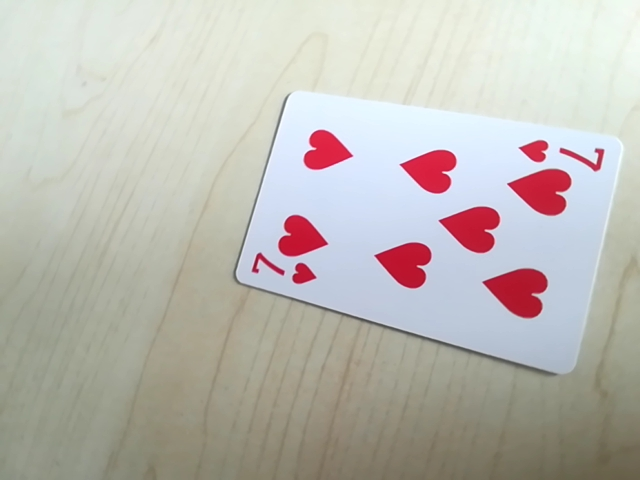hx 7: (516, 133, 609, 170), (246, 258, 317, 290)
